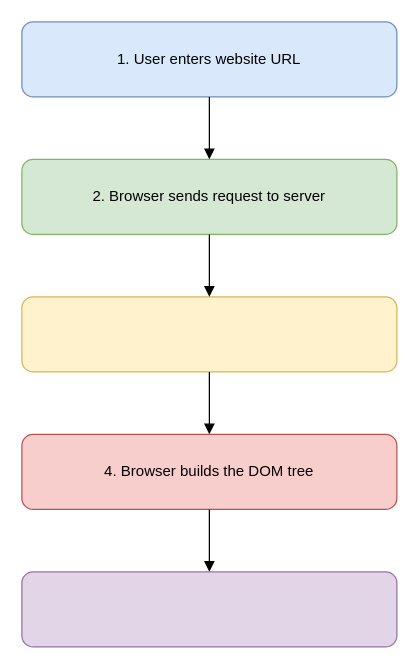
The diagram is 419 pixels wide and 669 high, and some of its shapes have lost their labels. The shapes that lost their labels are listed below. From the top down, each one's box as (x1, y1, x2, y2) in pixels, then its label:
(21, 296, 397, 372): 3. Server sends HTML and CSS files
(21, 571, 397, 647): 5. Browser displays the webpage
